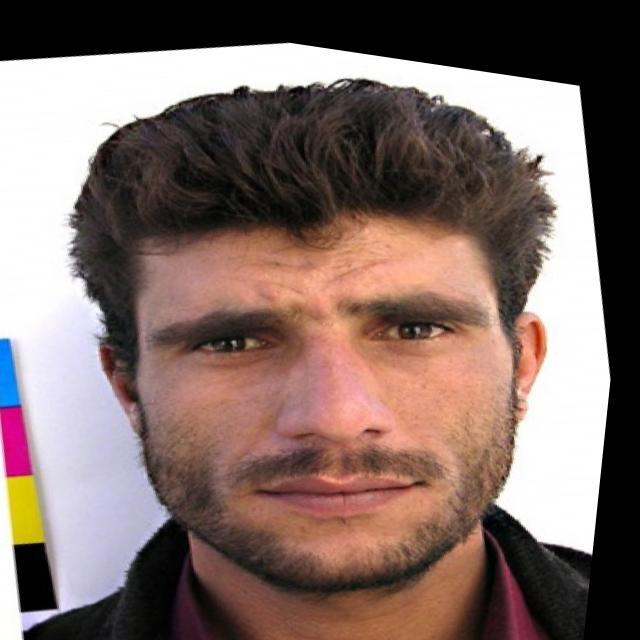Nonhelmet: (64, 69, 578, 595)
